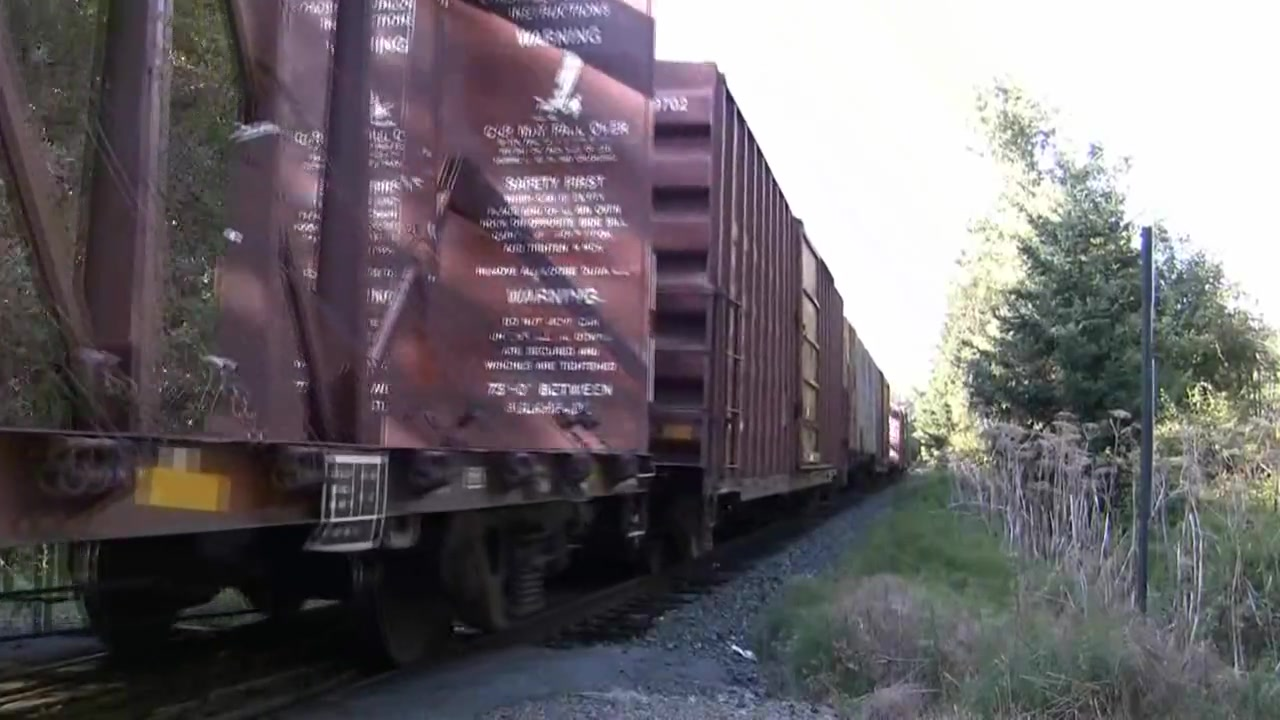train: (1, 1, 916, 720)
